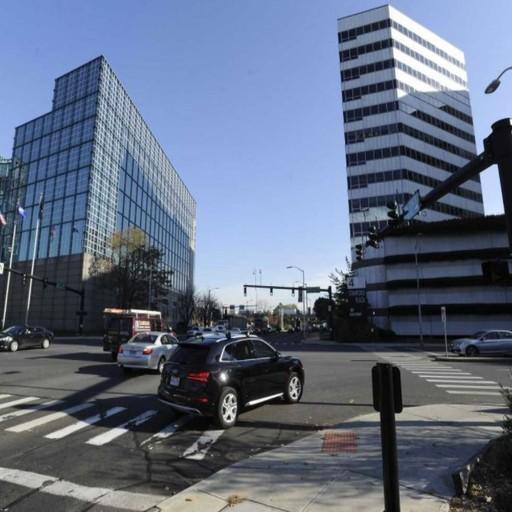car: (155, 332, 308, 423), (115, 330, 183, 370), (450, 327, 512, 357), (1, 322, 55, 354)
